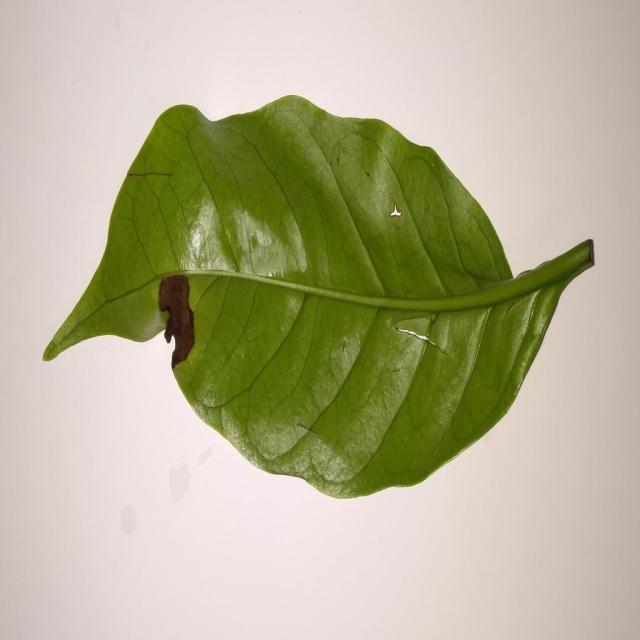Enfermedad-Antracnosis: (41, 95, 596, 503)
